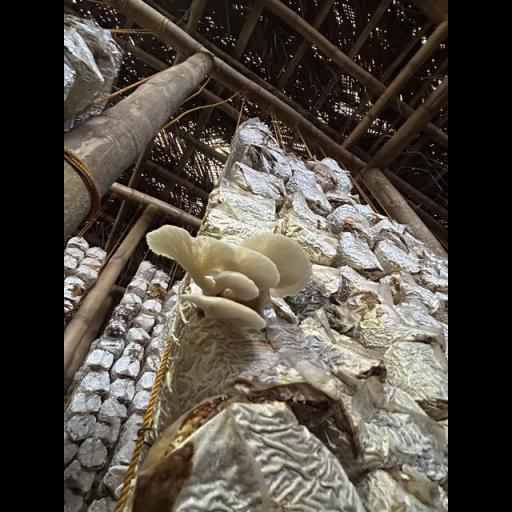White Oyster Mushroom: (141, 208, 317, 328)
